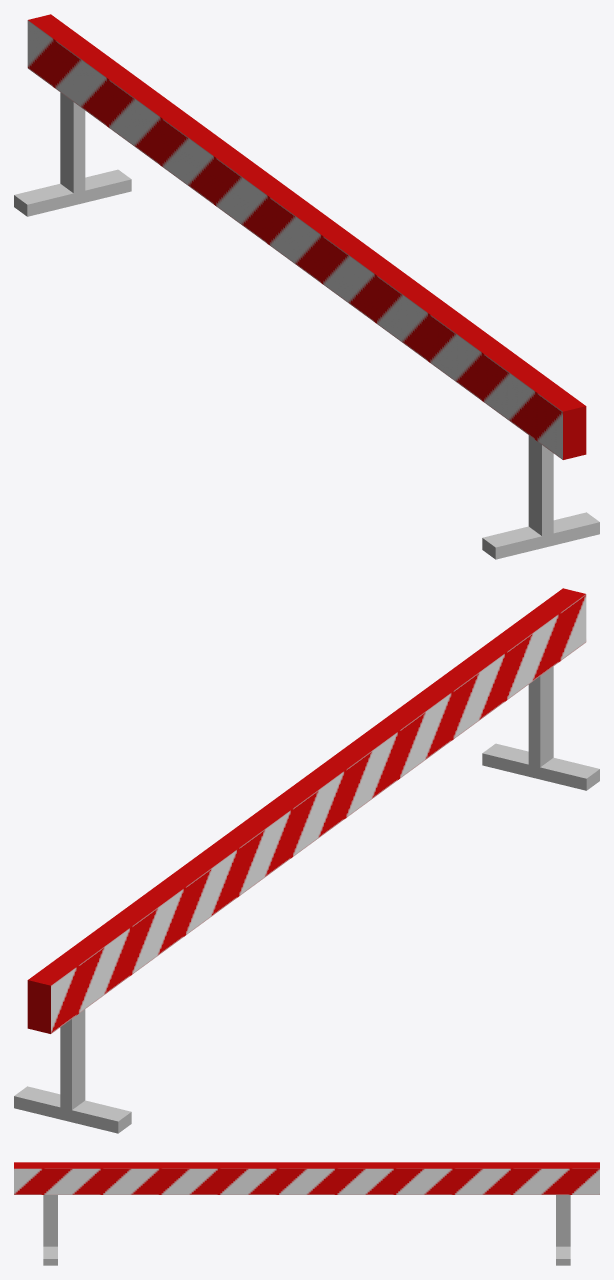
Rendered from RoadBlock.fbx.
3 views of the same model, one above another, from view 1: azimuth 30°, elevation 25°; view 2: azimuth 150°, elevation 25°; view 3: azimuth 270°, elevation 25° (orthographic). The views are drawn at different scales.
Parts seen in each view (by area): view 1: Cube; view 2: Cube; view 3: Cube.
Part boxes in pixels (x1=…): Cube: x1=14, y1=14, x2=599, y2=559; Cube: x1=14, y1=588, x2=599, y2=1133; Cube: x1=14, y1=1162, x2=599, y2=1265.
Bounding box in the file's own units: 90 × 130 × 800.
